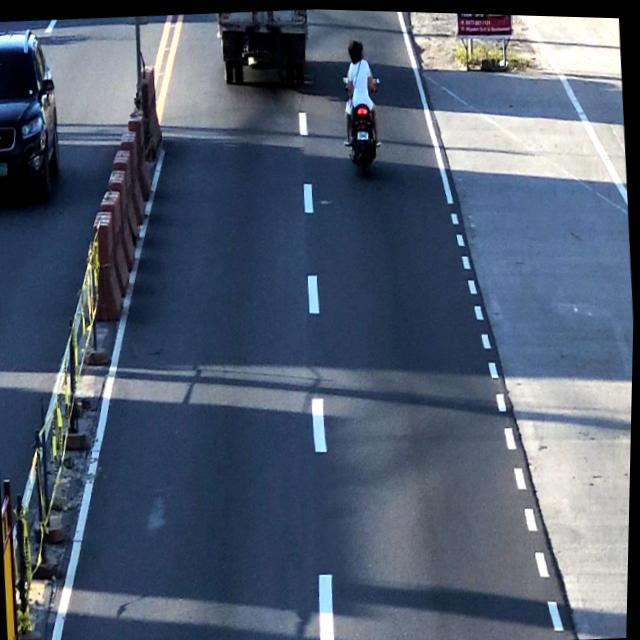License-Plate: (358, 127, 370, 140)
Motorcycle: (339, 39, 382, 177)
Truck: (215, 5, 312, 92)
